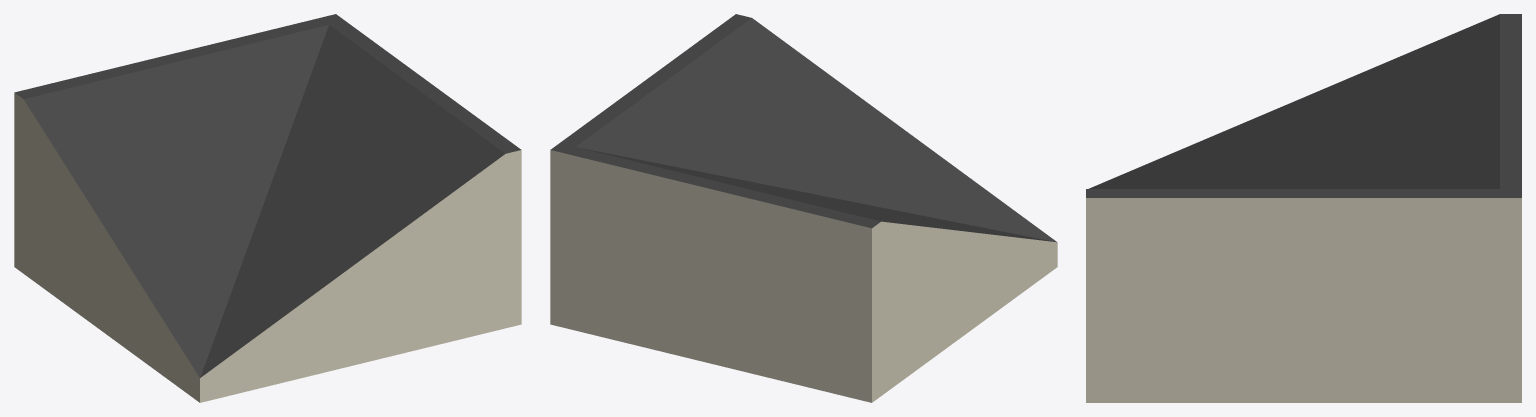
Rendered from modularBuildings_066.fbx.
3 renders of one model, left to right at view 1: azimuth 30°, elevation 25°; view 2: azimuth 150°, elevation 25°; view 3: azimuth 270°, elevation 25°, orthographic. The views are drawn at different scales.
Visible parts, largest first — view 1: Mesh1_Group1 Model; view 2: Mesh1_Group1 Model; view 3: Mesh1_Group1 Model.
Part boxes in pixels (x1,y1,x2,y2): Mesh1_Group1 Model: [14, 14, 521, 402]; Mesh1_Group1 Model: [550, 14, 1057, 402]; Mesh1_Group1 Model: [1086, 14, 1521, 402].
Size of the model in its own units: 1 by 0.5188 by 1.
